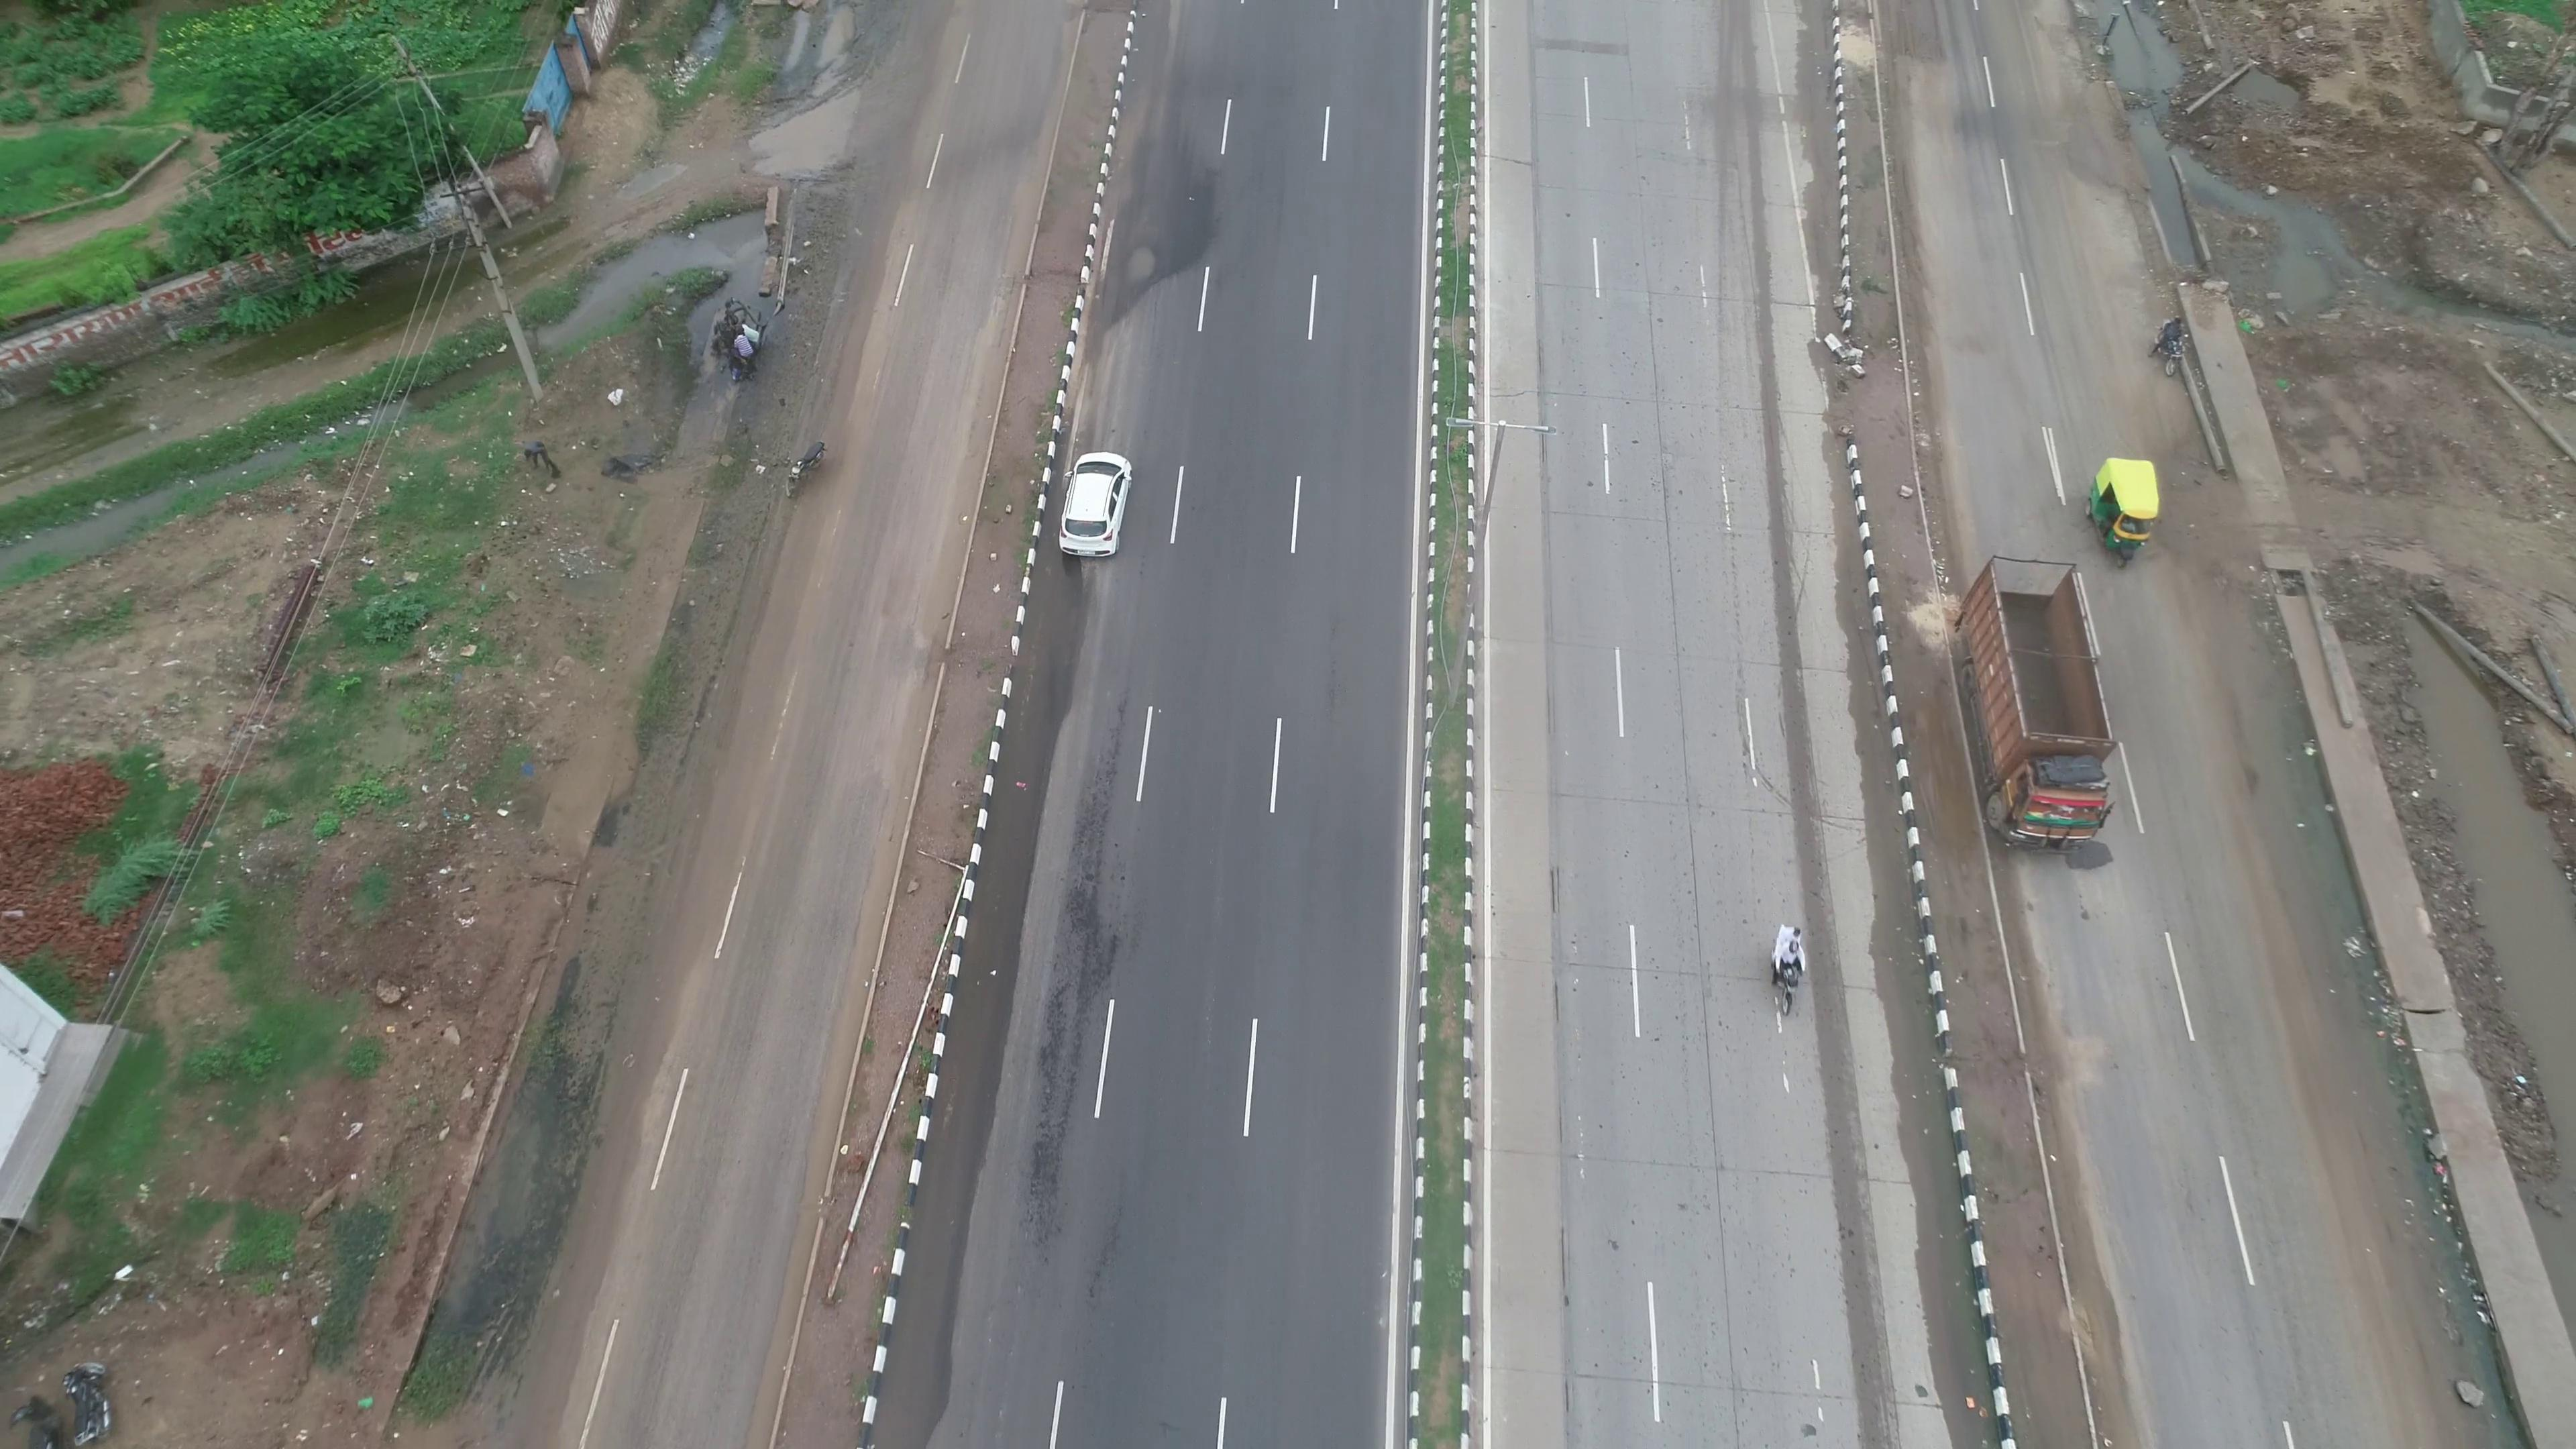Ravelling: (1001, 770, 1118, 1194)
